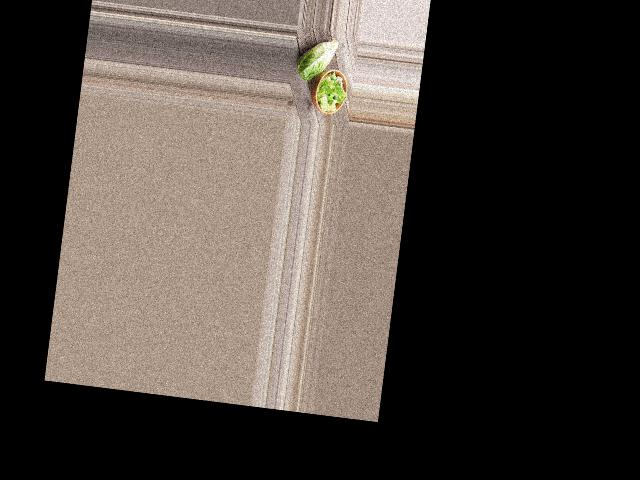lettuce: (294, 37, 339, 83)
